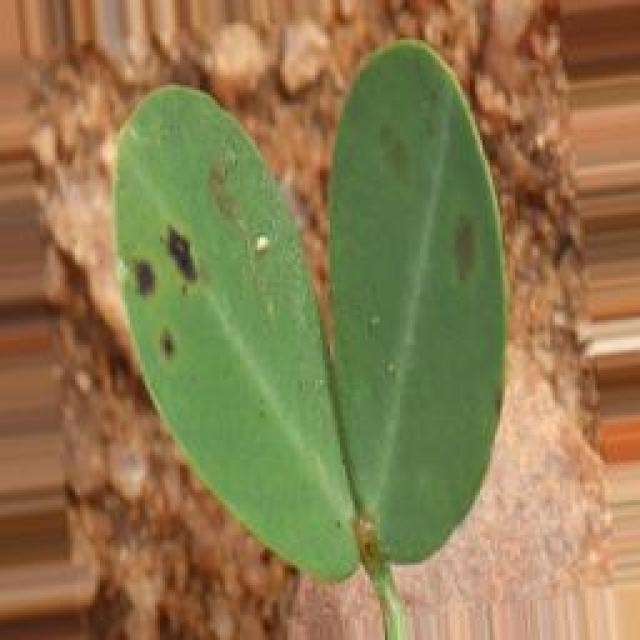Yellowish: (112, 196, 277, 382)
